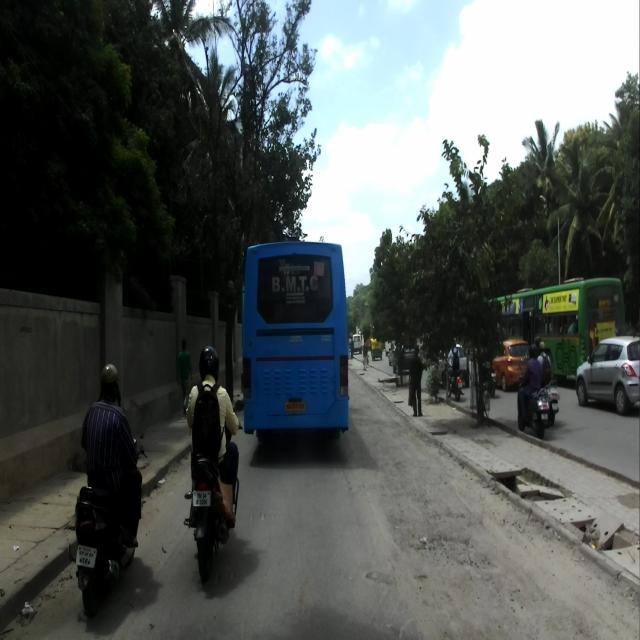Car_Maruti-Suzuki: (576, 336, 640, 414)
bus: (241, 240, 351, 444), (485, 276, 625, 381)
motorcycle: (184, 392, 244, 580)
scooter: (73, 435, 145, 619), (516, 371, 549, 441)
